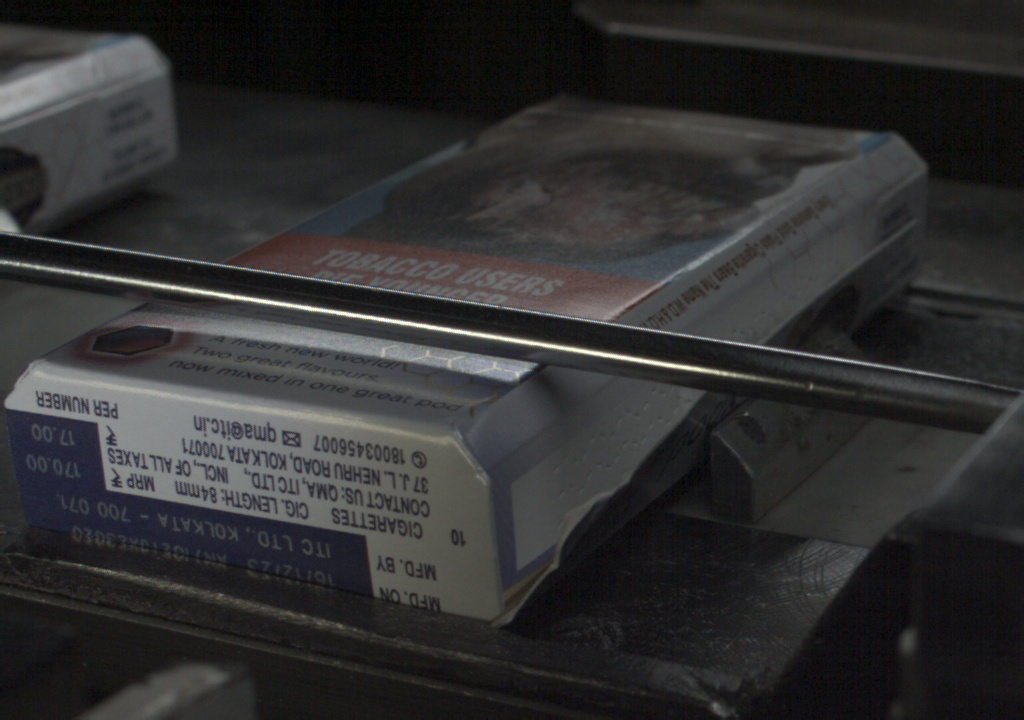g_bottom: (4, 365, 500, 624)
g_label: (15, 488, 370, 598)
g_miter: (871, 162, 922, 198)
ng_lmiter: (574, 388, 666, 464), (492, 453, 574, 529), (791, 199, 868, 268), (718, 267, 795, 335)
price: (7, 417, 103, 485)
